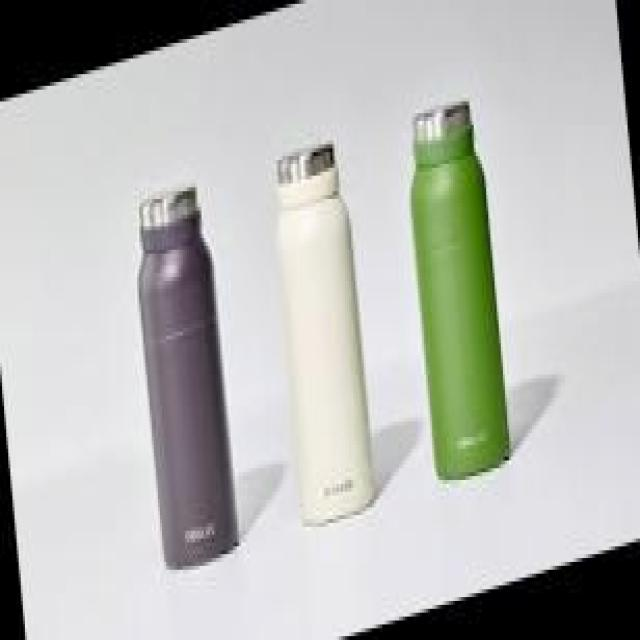bottle: (122, 172, 248, 597), (398, 84, 518, 494), (268, 129, 380, 531)
